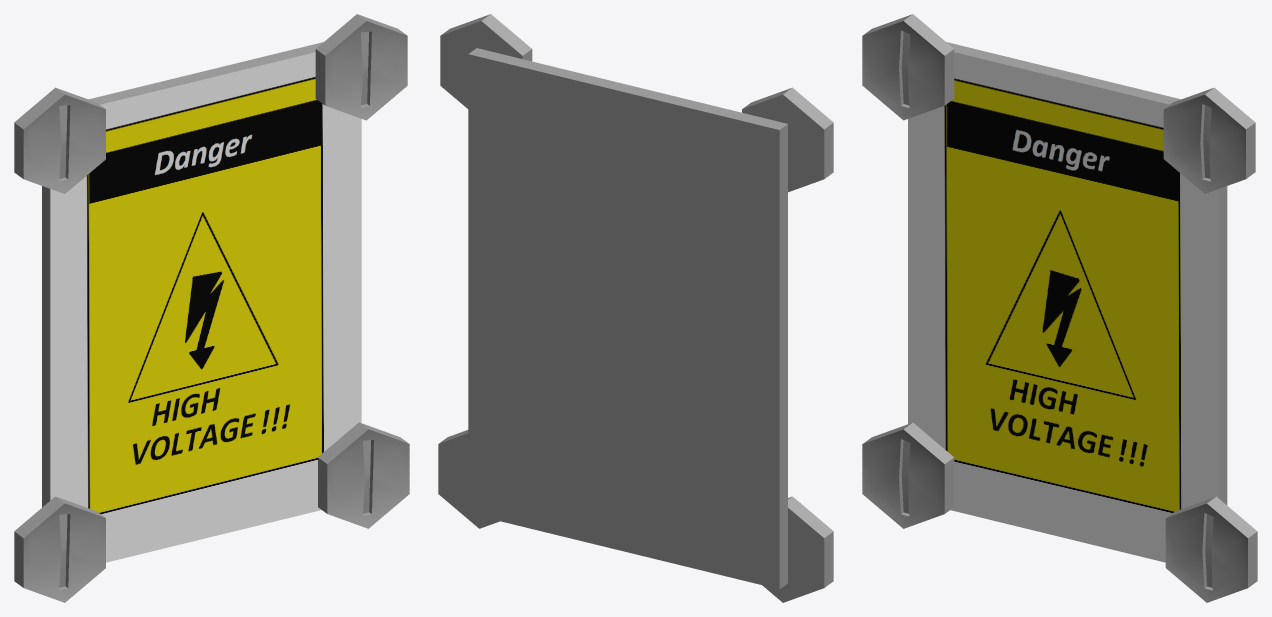
File: sinall.fbx
The picture shows the model from 3 angles, left to right: view 1: azimuth 30°, elevation 25°; view 2: azimuth 150°, elevation 25°; view 3: azimuth 330°, elevation 25°; orthographic projection.
Parts seen in each view (by area): view 1: pCube6; view 2: pCube6; view 3: pCube6.
Part boxes in pixels (x1,y1,x2,y2): pCube6: (14, 14, 409, 602); pCube6: (438, 14, 833, 602); pCube6: (862, 14, 1257, 602).
Size of the model in its own units: 8.11 by 10.21 by 0.6683.
Materials: 2 (1 with a texture image).
